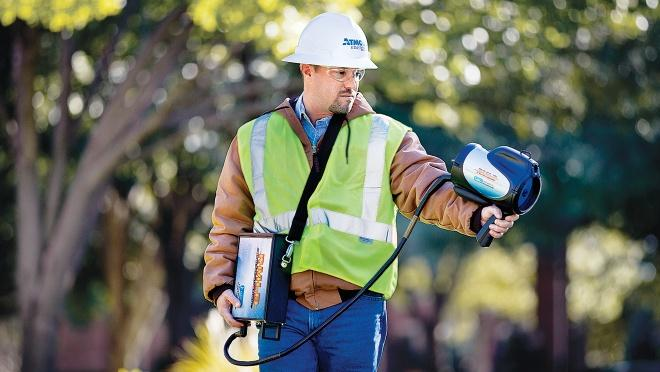helmet: (286, 12, 377, 72)
